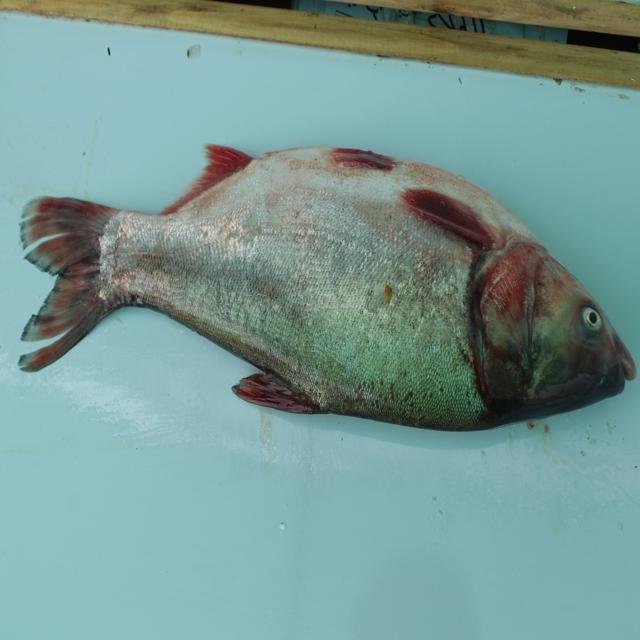SilverCarp: (22, 154, 640, 446)
